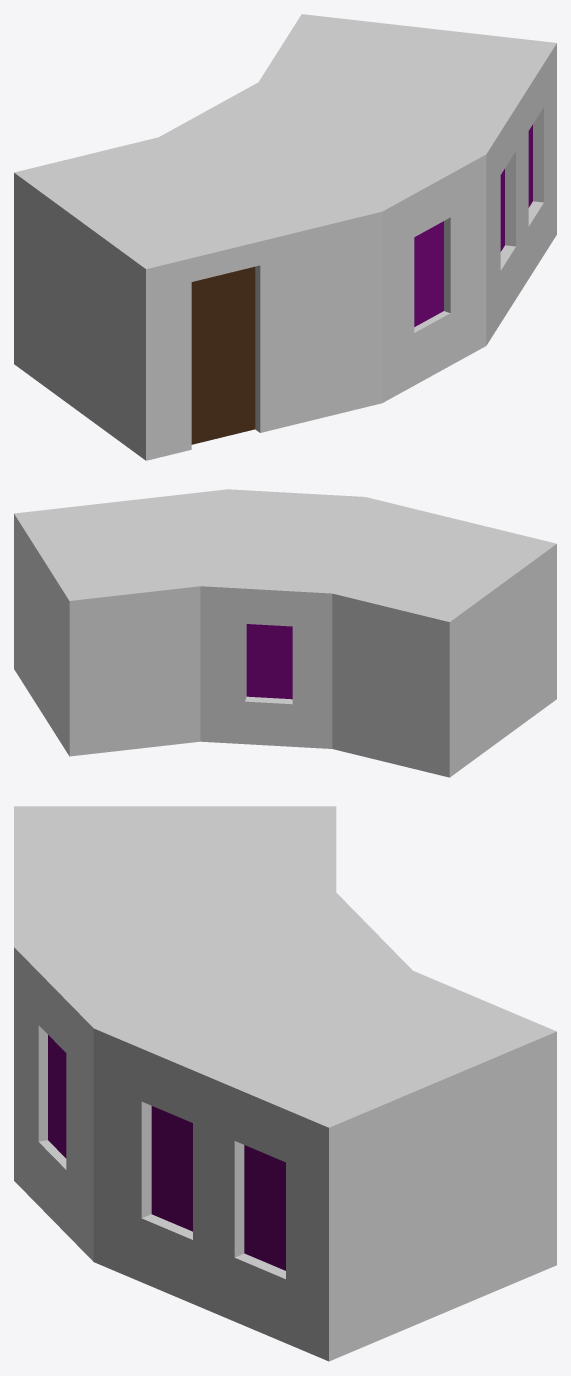
File: curve45_bot_1.fbx
3 renders of one model, top to bottom at view 1: azimuth 30°, elevation 25°; view 2: azimuth 150°, elevation 25°; view 3: azimuth 270°, elevation 25°, orthographic. The views are drawn at different scales.
Parts seen in each view (by area): view 1: curve45_bot_1; view 2: curve45_bot_1; view 3: curve45_bot_1.
Part boxes in pixels (box(x1,y1,x2,y2)): curve45_bot_1: box(14, 14, 556, 460); curve45_bot_1: box(14, 489, 556, 777); curve45_bot_1: box(14, 806, 556, 1361).
Size of the model in its own units: 1180 by 400 by 842.
